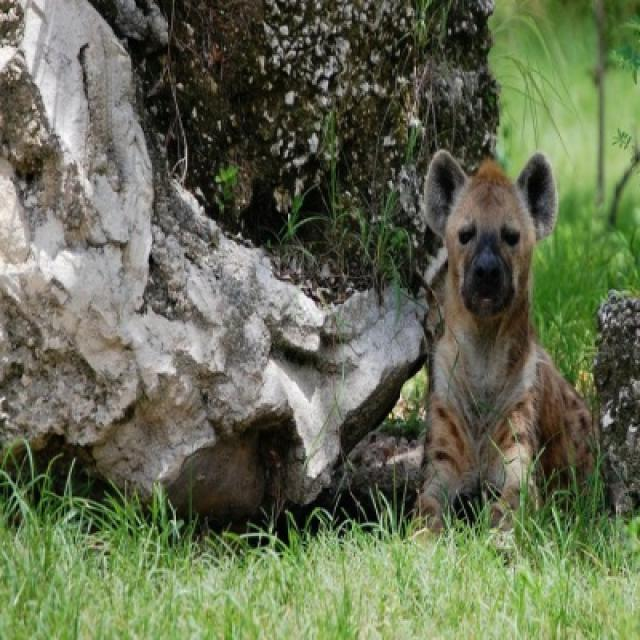hyena: (419, 150, 595, 528)
